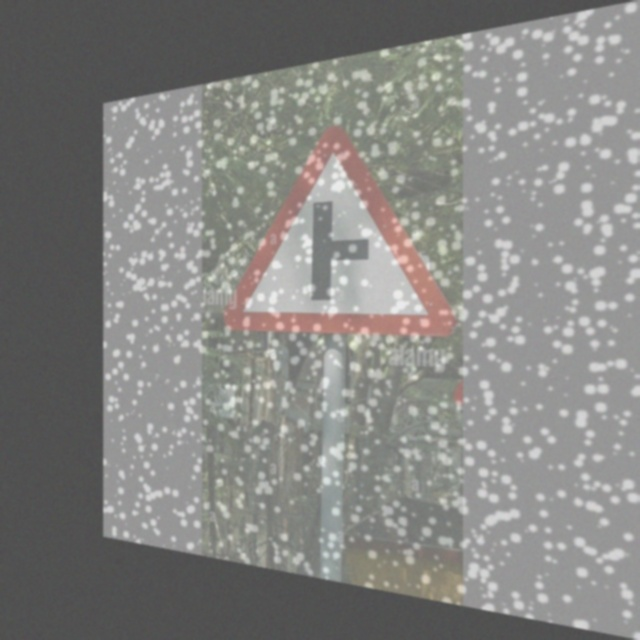Side_Road_Right: (227, 106, 455, 341)
